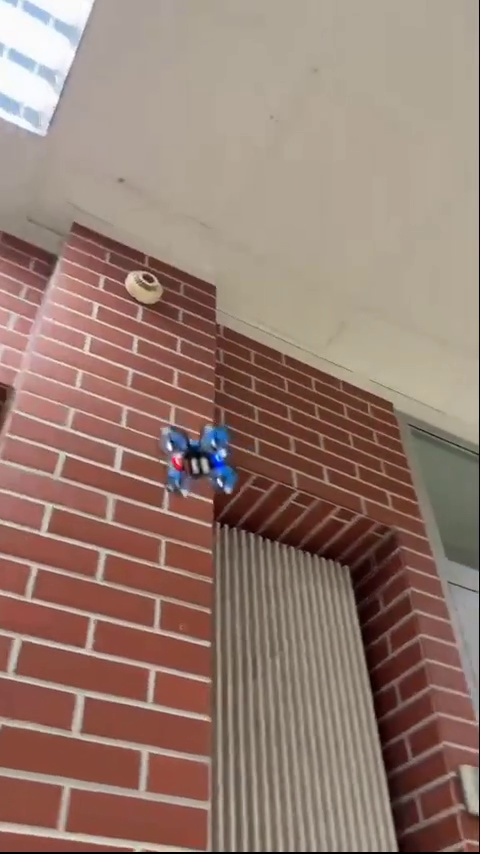drone: (160, 425, 236, 496)
